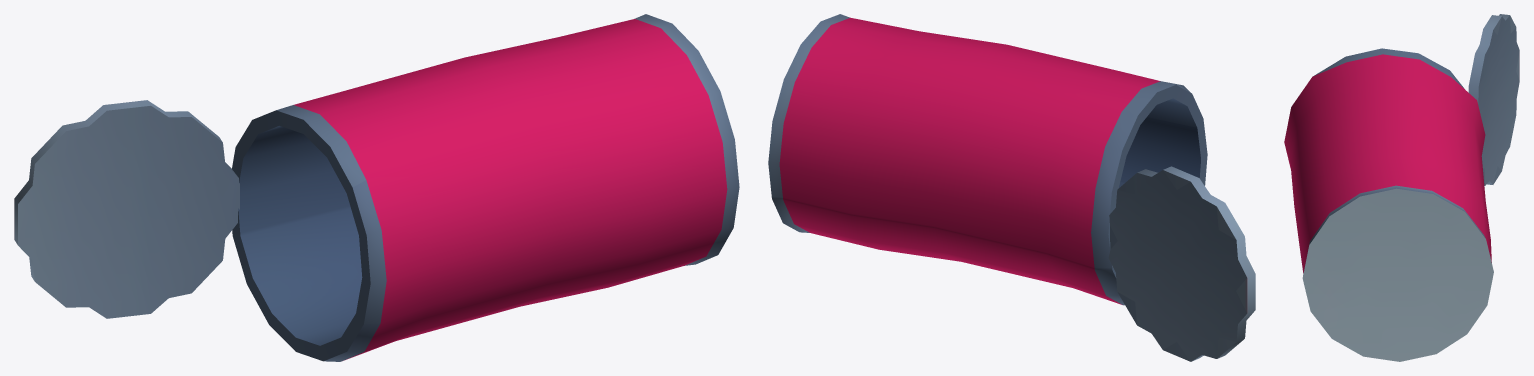
Rendered from can1.fbx.
3 views of the same model, side by side, from view 1: azimuth 30°, elevation 25°; view 2: azimuth 150°, elevation 25°; view 3: azimuth 270°, elevation 25° (orthographic). The views are drawn at different scales.
Parts seen in each view (by area): view 1: can1; view 2: can1; view 3: can1.
Boxes of the visible parts, x1,y1,x2,y2 form: can1: [14, 14, 739, 361]; can1: [768, 14, 1255, 361]; can1: [1284, 14, 1519, 361].
Bounding box in the file's own units: 0.00282 × 0.00111 × 0.00132.
Materials: 1 (1 with a texture image).
